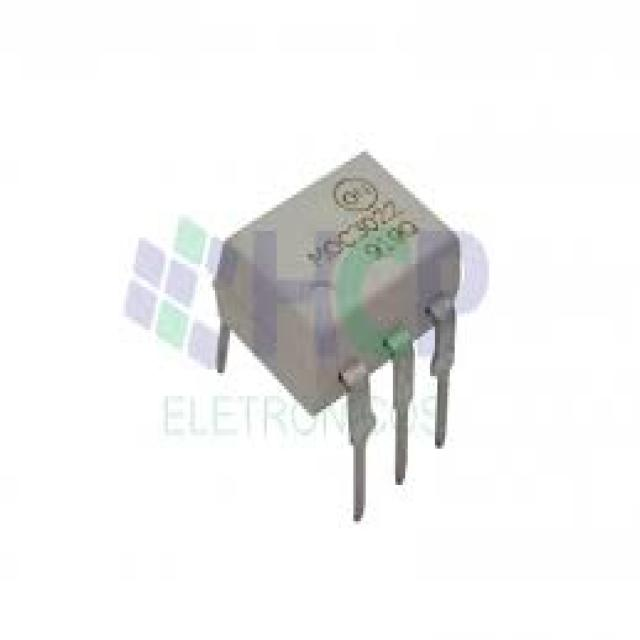IC: (205, 148, 466, 524)
